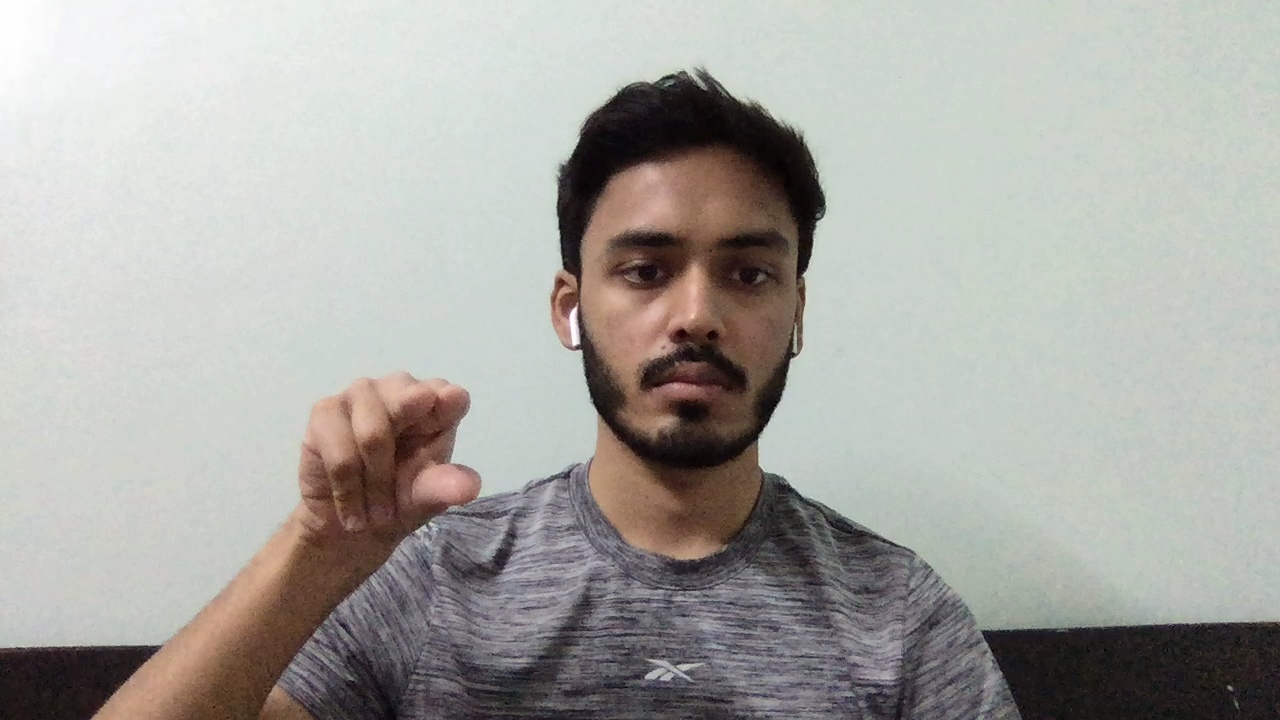No: (267, 349, 496, 563)
